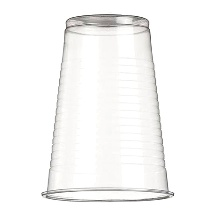glass: (32, 7, 180, 213)
